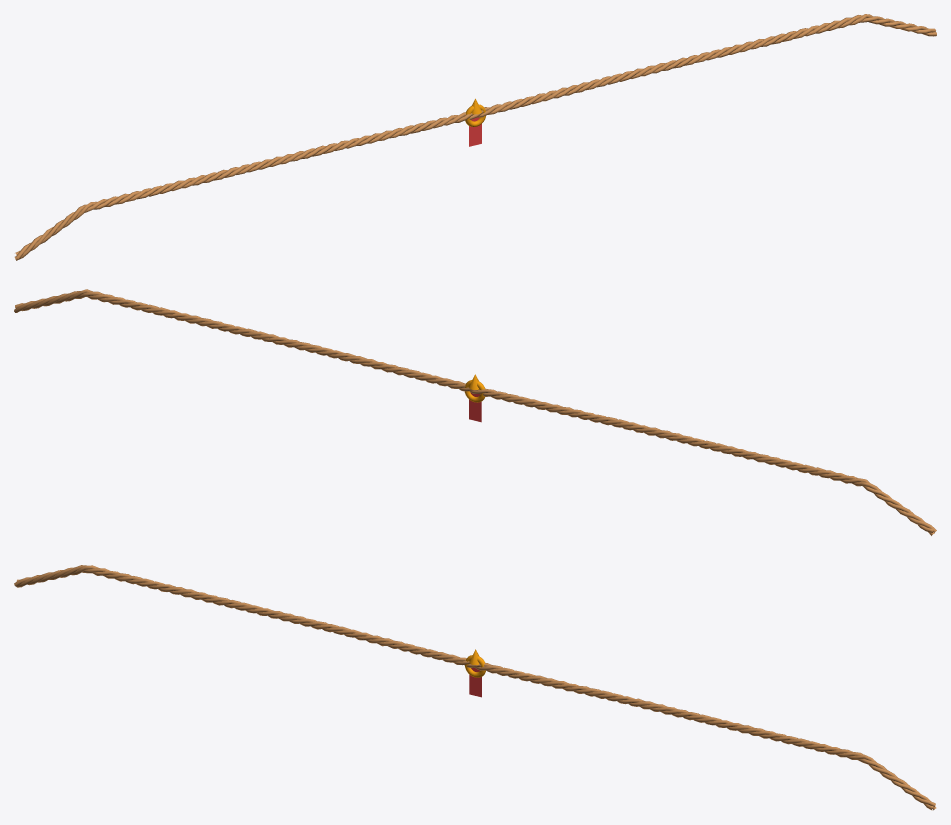
Rendered from rope.glb.
3 views of the same model, one above another, from view 1: azimuth 30°, elevation 25°; view 2: azimuth 150°, elevation 25°; view 3: azimuth 330°, elevation 25° (orthographic).
Parts seen in each view (by area): view 1: Strand_3, Strand_1, Strand_2; view 2: Strand_1, Strand_3, Strand_2; view 3: Strand_1, Strand_3, Strand_2.
Boxes of the visible parts, <box> form: Strand_3: <box>14,15,933,260</box>; Strand_1: <box>16,16,936,259</box>; Strand_2: <box>15,14,935,254</box>; Strand_1: <box>21,291,936,532</box>; Strand_3: <box>14,291,934,535</box>; Strand_2: <box>15,289,933,532</box>; Strand_1: <box>14,565,933,810</box>; Strand_3: <box>16,567,936,810</box>; Strand_2: <box>16,565,935,807</box>.
Bounding box in the file's own units: 8.62 × 0.4529 × 0.11.
